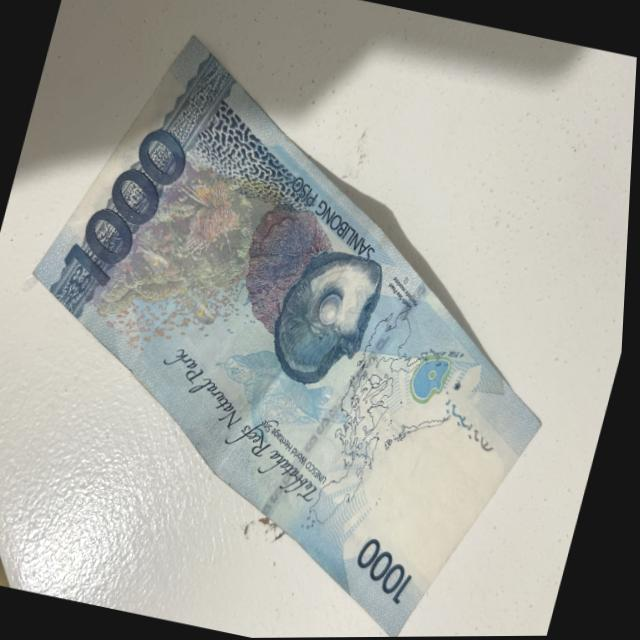1000_pearl: (264, 234, 393, 400)
1000_pearl_watermark: (407, 344, 462, 409)
